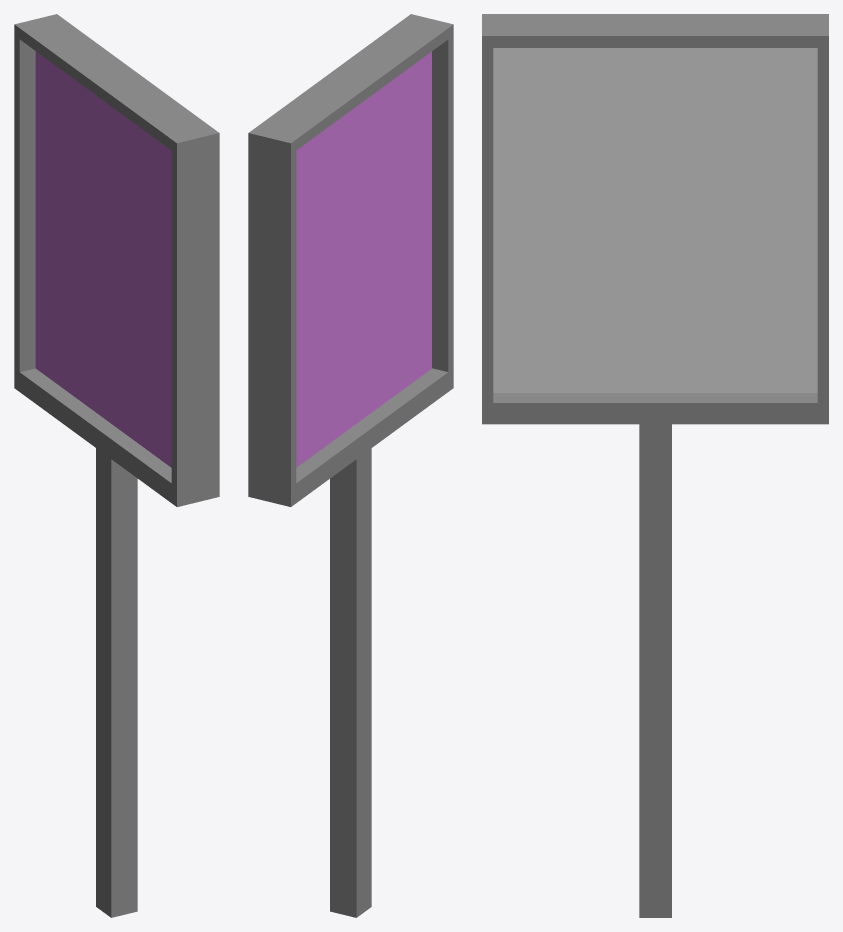
The model's file is AdPoles2.fbx.
3 renders of one model, left to right at view 1: azimuth 30°, elevation 25°; view 2: azimuth 150°, elevation 25°; view 3: azimuth 270°, elevation 25°, orthographic. The views are drawn at different scales.
Parts seen in each view (by area): view 1: Plane.001; view 2: Plane.001; view 3: Plane.001.
Boxes of the visible parts, <box> form: Plane.001: <box>14,14,219,917</box>; Plane.001: <box>248,14,453,917</box>; Plane.001: <box>482,14,828,917</box>.
Bounding box in the file's own units: 93.66 × 1748 × 620.
